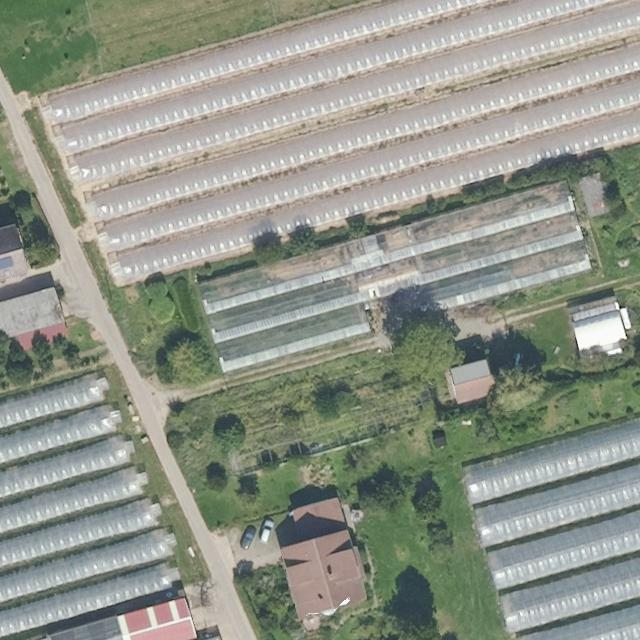PV: (0, 255, 14, 270)
